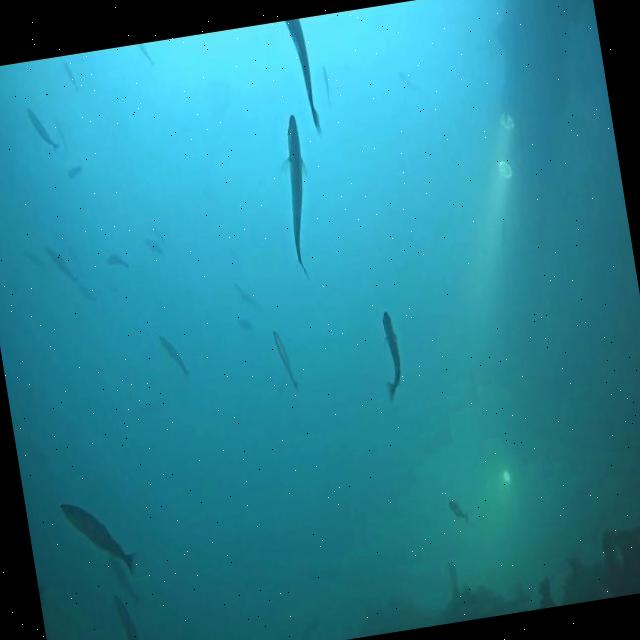fish: (274, 116, 322, 276), (61, 496, 139, 582), (282, 19, 322, 137), (372, 308, 405, 401), (272, 330, 302, 394), (112, 593, 151, 640), (110, 550, 140, 604), (27, 105, 59, 154), (161, 334, 190, 378), (45, 246, 74, 282), (449, 501, 471, 523), (74, 278, 96, 300), (63, 60, 77, 88), (105, 252, 126, 269), (139, 45, 155, 66), (324, 70, 332, 104)
